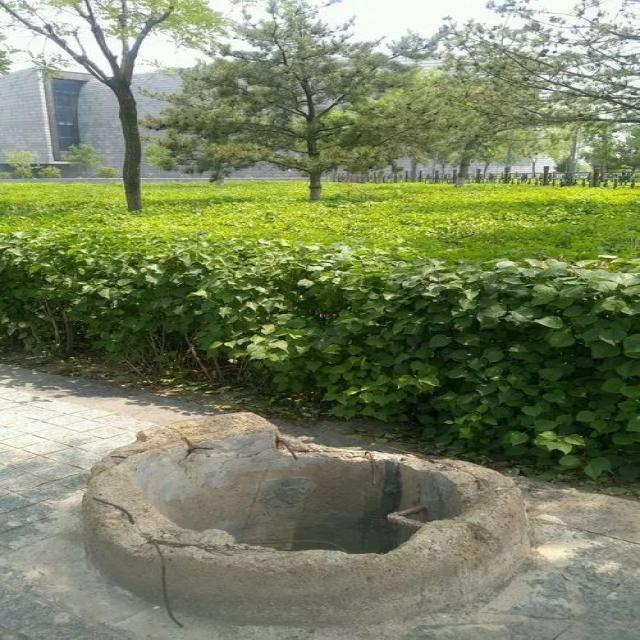hole: (75, 408, 525, 606)
